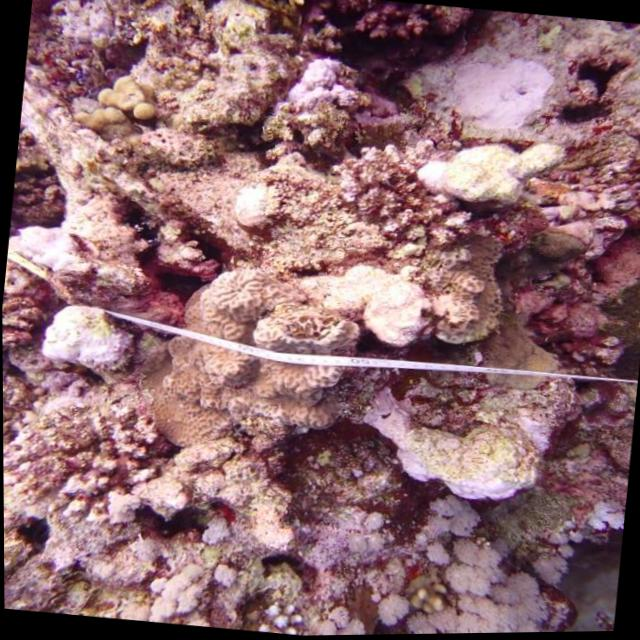Bleached Coral: (377, 501, 587, 636), (377, 397, 561, 511), (428, 36, 581, 151), (296, 255, 451, 349), (413, 130, 569, 220), (92, 434, 189, 551), (73, 64, 170, 151), (227, 580, 370, 637), (40, 297, 132, 374), (272, 46, 373, 116), (46, 0, 142, 62), (216, 167, 295, 240)
